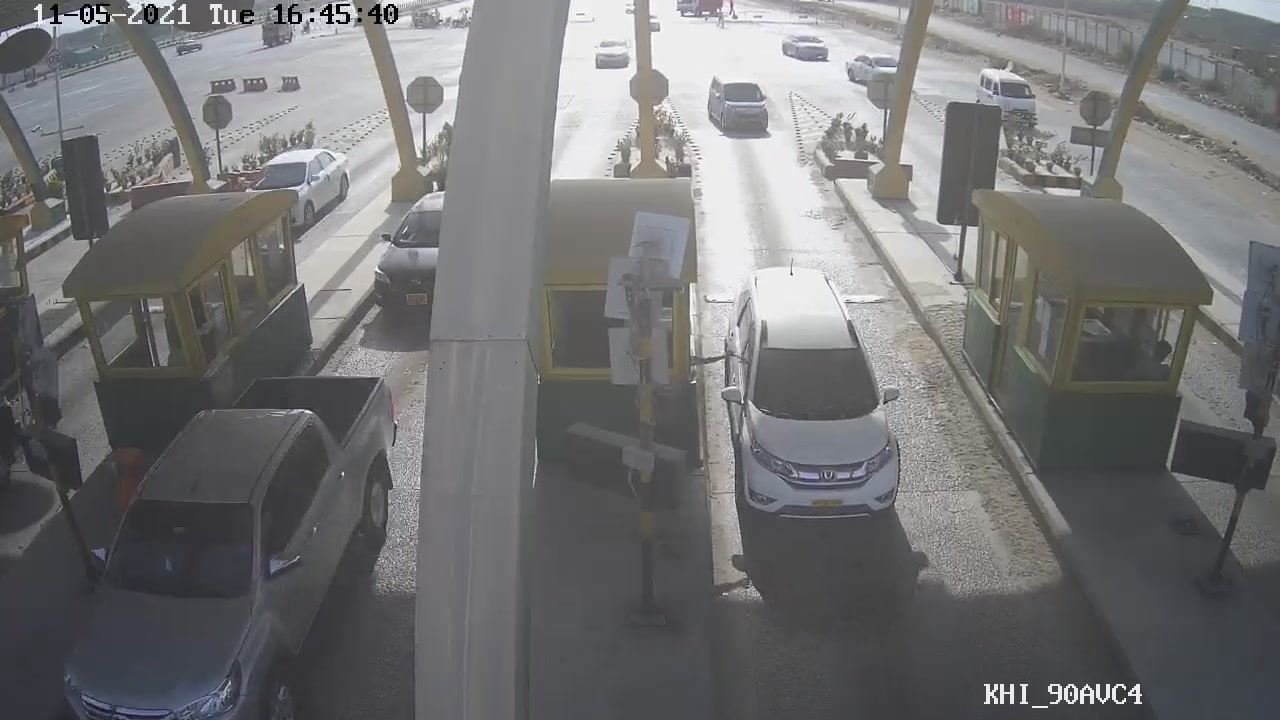F1: (719, 263, 904, 526)
